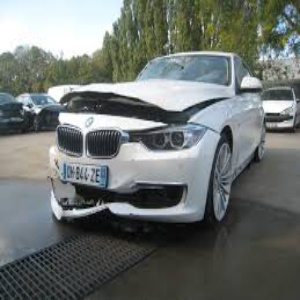bumper: (47, 188, 153, 228)
